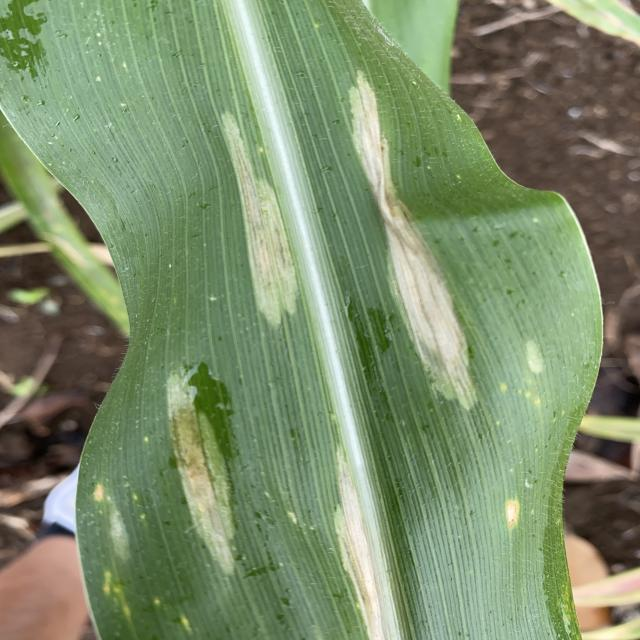Corn_Leaf_Blight: (70, 7, 601, 640)
